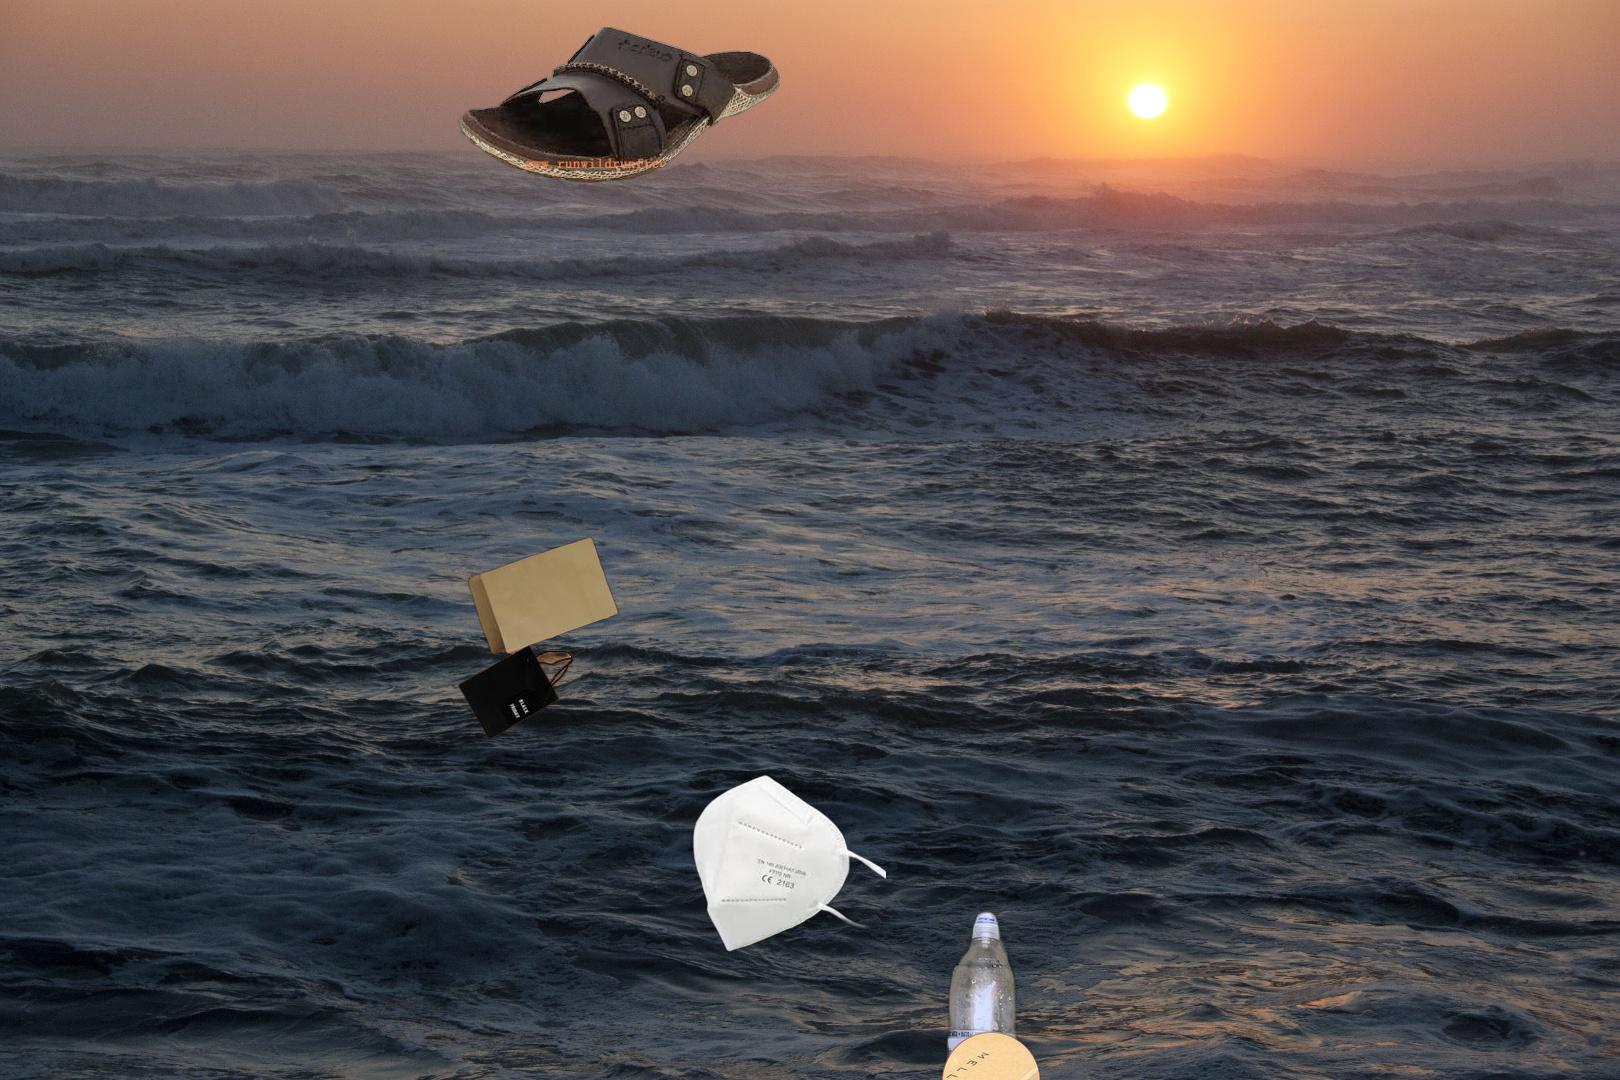paper-bag: (456, 536, 622, 742)
plastic-bottles: (664, 592, 1025, 1080)
shoes: (458, 27, 780, 183)
trash: (689, 771, 886, 953)
trashbox-cardboard: (728, 1028, 1044, 1080)
